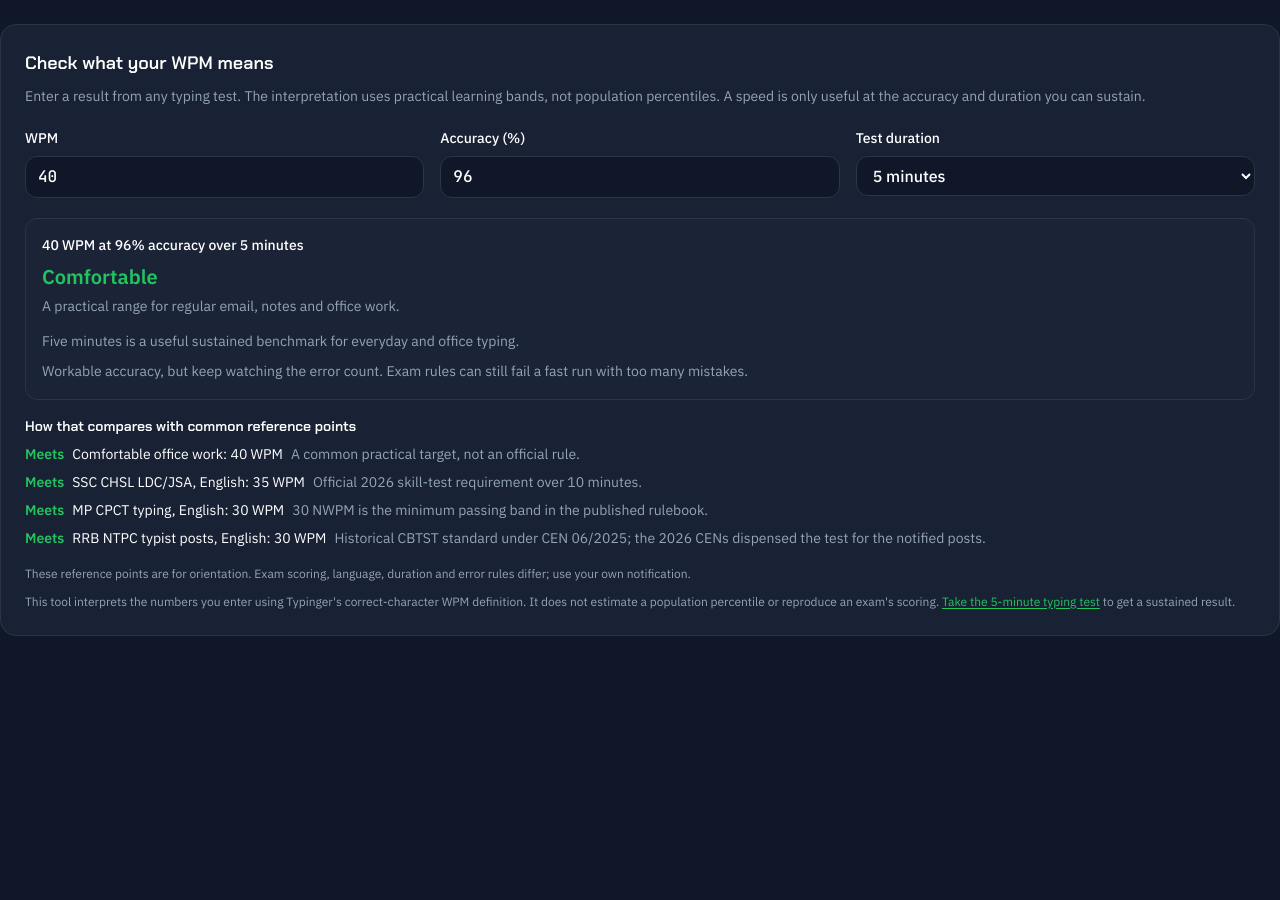
Test case: WpmInterpreter › rejects values outside the supported range
This screenshot has width=1280, height=900.
Replace the text in the number field with test id "wpm-interpreter-wpm" with "400" at (225, 177), box 25,156 -> 424,198
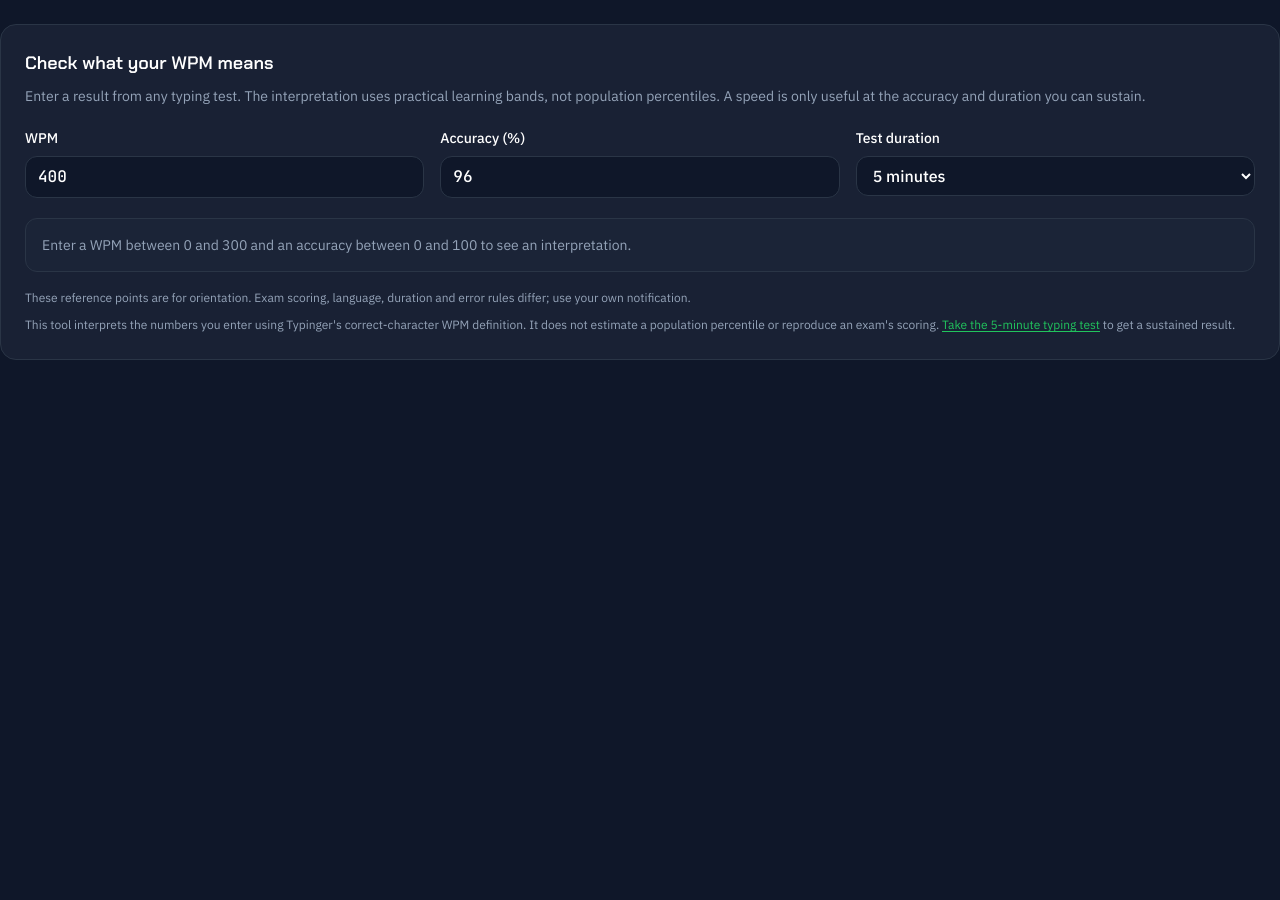
Check: the element with test id "wpm-interpreter-result" shows "Enter a WPM between 0 and 300", box 42,236 -> 631,254
Check: the element with test id "wpm-interpreter-targets" is gone
